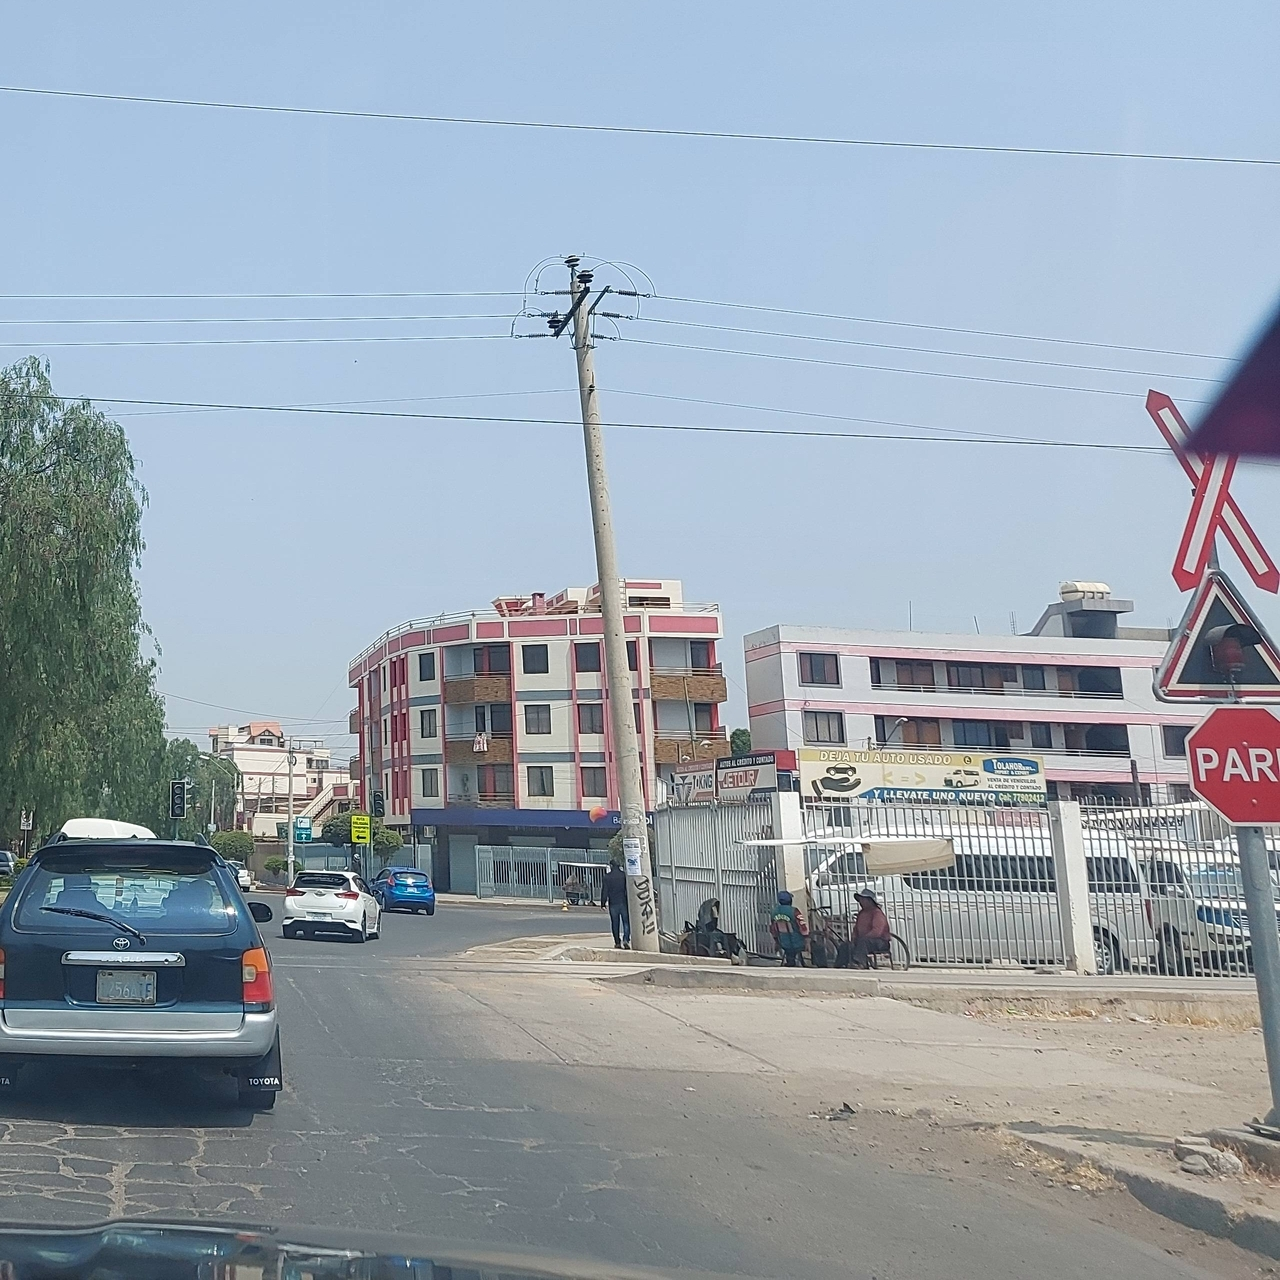pare: (1185, 700, 1280, 828)
